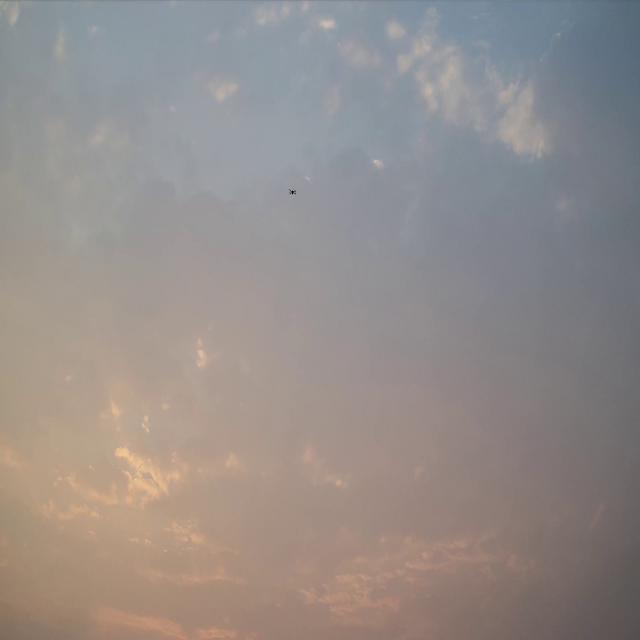UAV: (288, 187, 297, 195)
